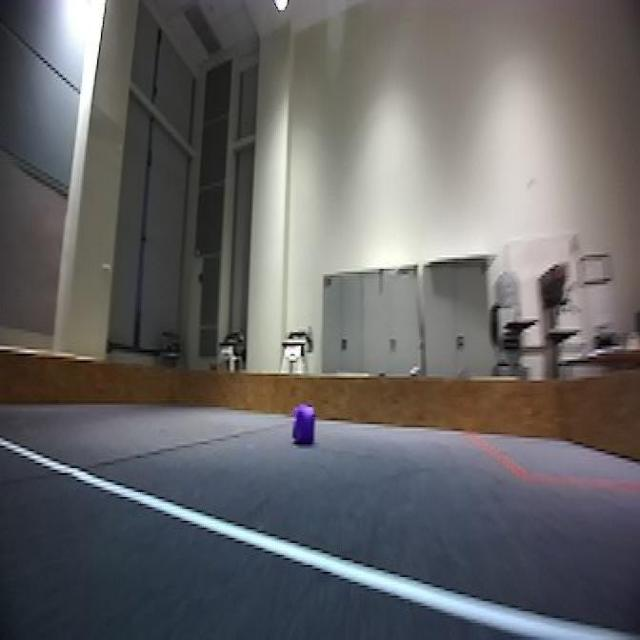frc_cube: (291, 400, 318, 448)
